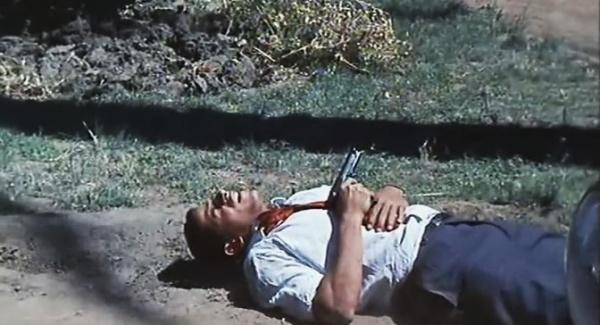Gun: (328, 147, 374, 209)
